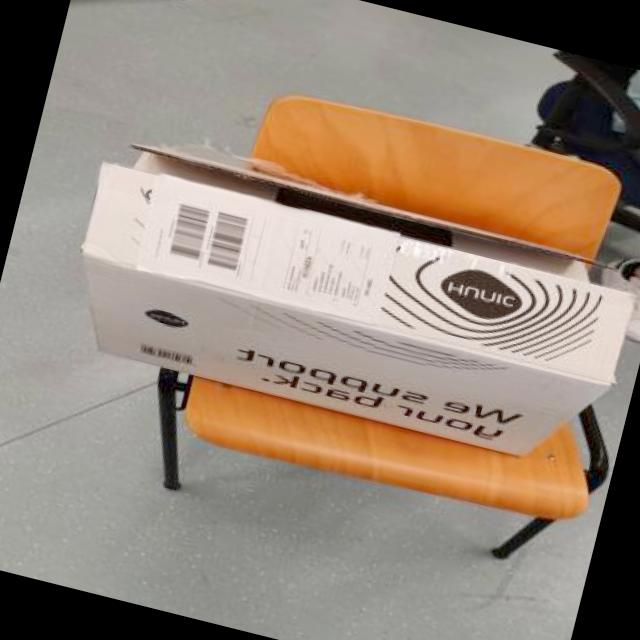box: (18, 112, 640, 495)
